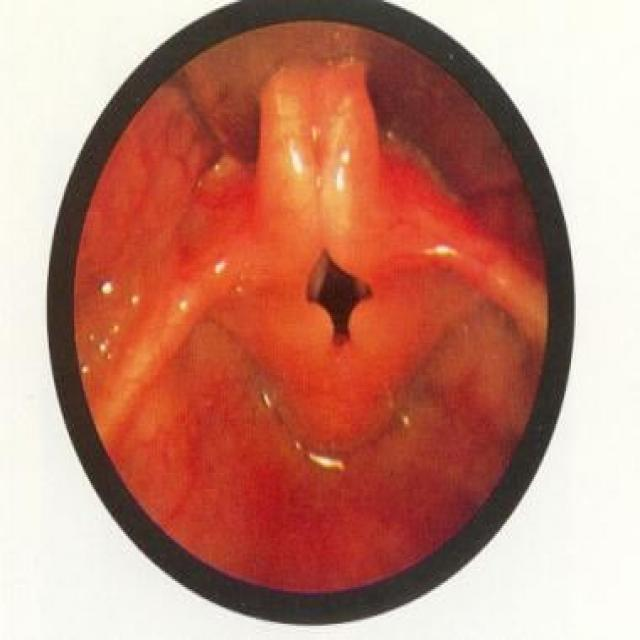arytenoid cartilagerotation: (242, 292, 448, 440)
epiglottisrotation: (248, 54, 388, 282)
larynxrotation: (300, 246, 375, 344)
